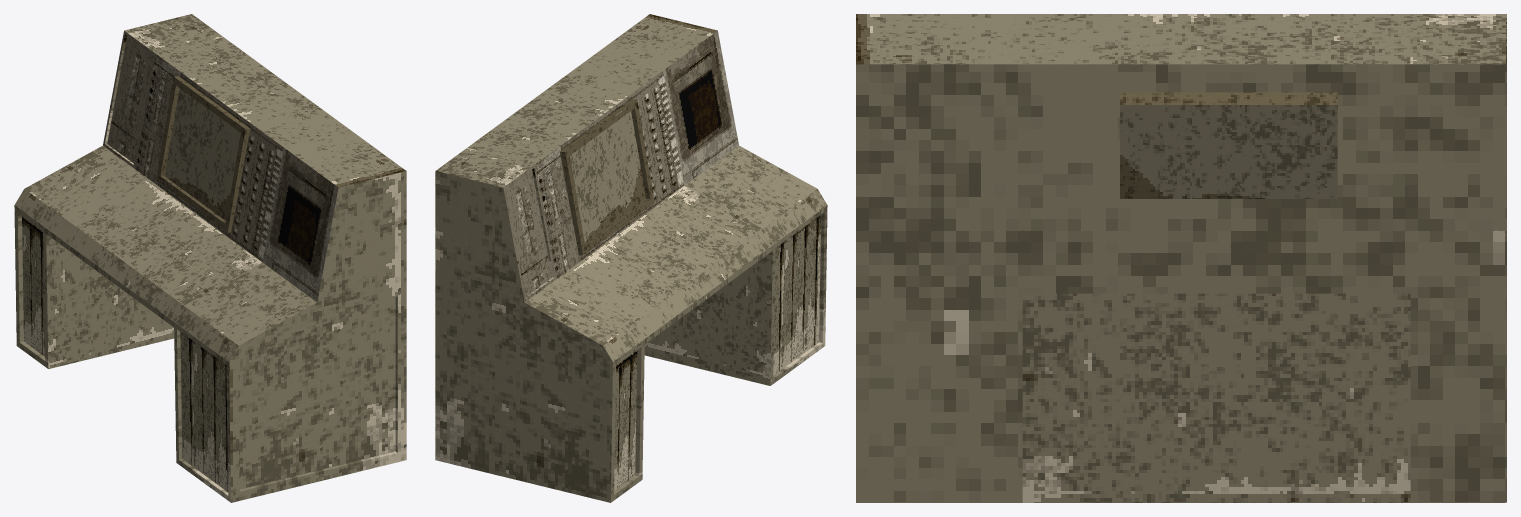
Rendered from terminal.glb.
The picture shows the model from 3 angles, left to right: view 1: azimuth 30°, elevation 25°; view 2: azimuth 150°, elevation 25°; view 3: azimuth 270°, elevation 25°; orthographic projection. The views are drawn at different scales.
Visible parts, largest first — view 1: terminal, frame; view 2: terminal, frame; view 3: terminal, frame.
Boxes of the visible parts, x1,y1,x2,y2 form: terminal: [14, 14, 406, 502]; frame: [156, 76, 250, 232]; terminal: [435, 14, 827, 502]; frame: [560, 99, 654, 255]; terminal: [856, 14, 1506, 502]; frame: [1120, 92, 1337, 198].
Bounding box in the file's own units: 1.07 × 1.56 × 2.1.
Materials: 1 (1 with a texture image).
